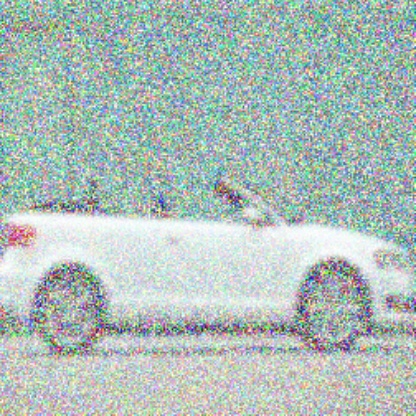Vehicle: (1, 174, 414, 362)
